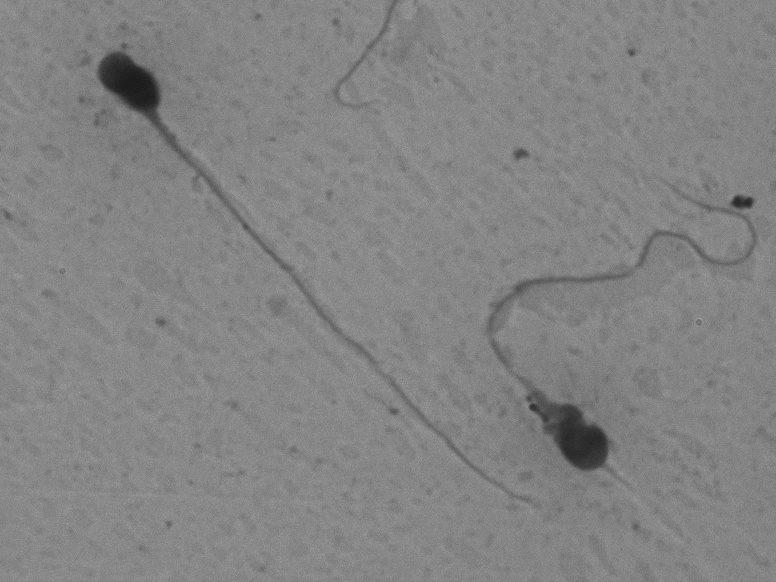Abnormal: (72, 33, 572, 527), (469, 144, 763, 484)
